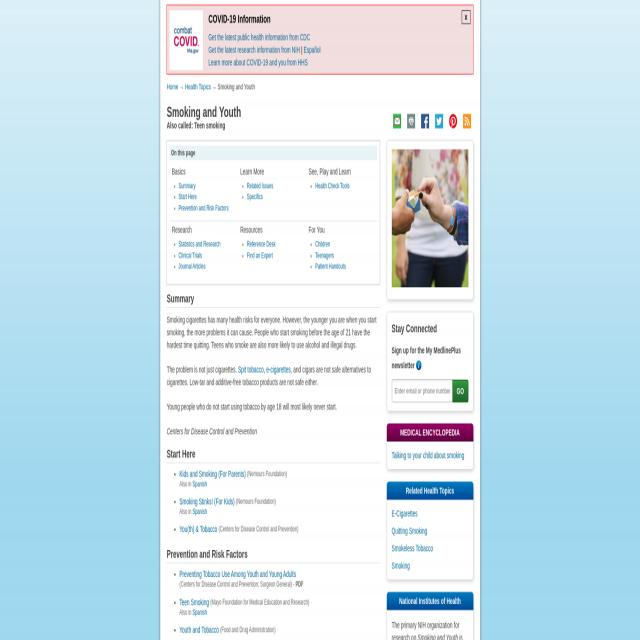button: (392, 150, 468, 287), (170, 10, 203, 70), (452, 379, 468, 402), (461, 10, 471, 25), (393, 114, 401, 128), (407, 114, 415, 128), (421, 114, 429, 128), (435, 114, 443, 128), (449, 114, 457, 128), (463, 114, 471, 128), (416, 360, 422, 370)
field: (392, 379, 453, 402)
